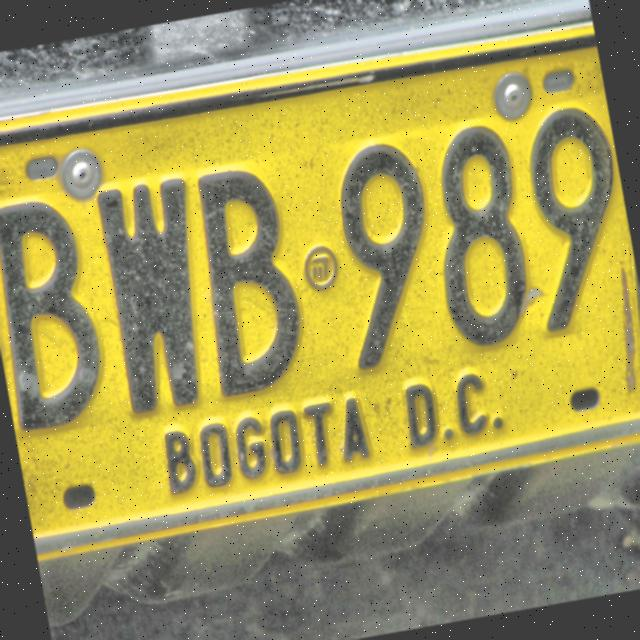8: (431, 110, 538, 363)
9: (323, 135, 443, 379), (521, 102, 631, 349)
B: (193, 156, 315, 410), (0, 195, 113, 439)
W: (88, 169, 214, 427)
